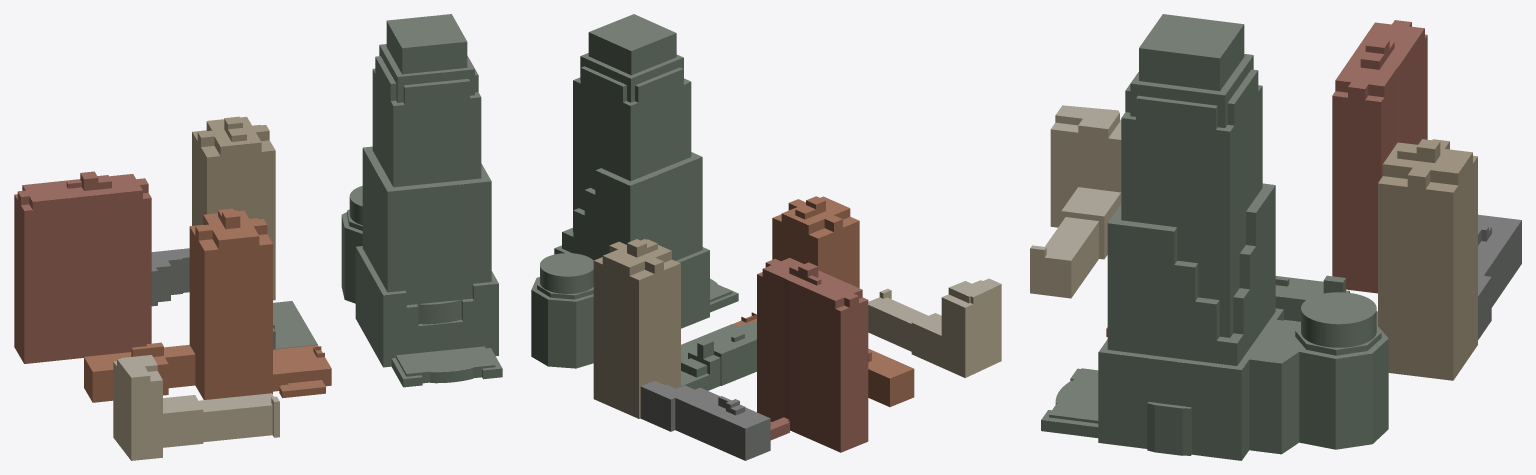
The model's file is tile--9_11.glb.
The picture shows the model from 3 angles, left to right: view 1: azimuth 30°, elevation 25°; view 2: azimuth 150°, elevation 25°; view 3: azimuth 270°, elevation 25°; orthographic projection. The views are drawn at different scales.
Parts seen in each view (by area): view 1: wall, roof; view 2: wall, roof; view 3: wall, roof.
Boxes of the visible parts, left/top/right/bottom form: wall: left=14, top=21, right=502, bottom=460; roof: left=15, top=14, right=502, bottom=413; wall: left=531, top=32, right=1001, bottom=460; roof: left=531, top=14, right=1000, bottom=429; wall: left=1030, top=22, right=1521, bottom=460; roof: left=1030, top=14, right=1521, bottom=426.
Bounding box in the file's own units: 246 × 176 × 203.
